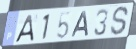1: (41, 13, 52, 41)
3: (94, 7, 109, 37)
5: (56, 10, 72, 40)
A: (13, 14, 34, 44), (71, 10, 90, 38)
S: (109, 5, 130, 37)
